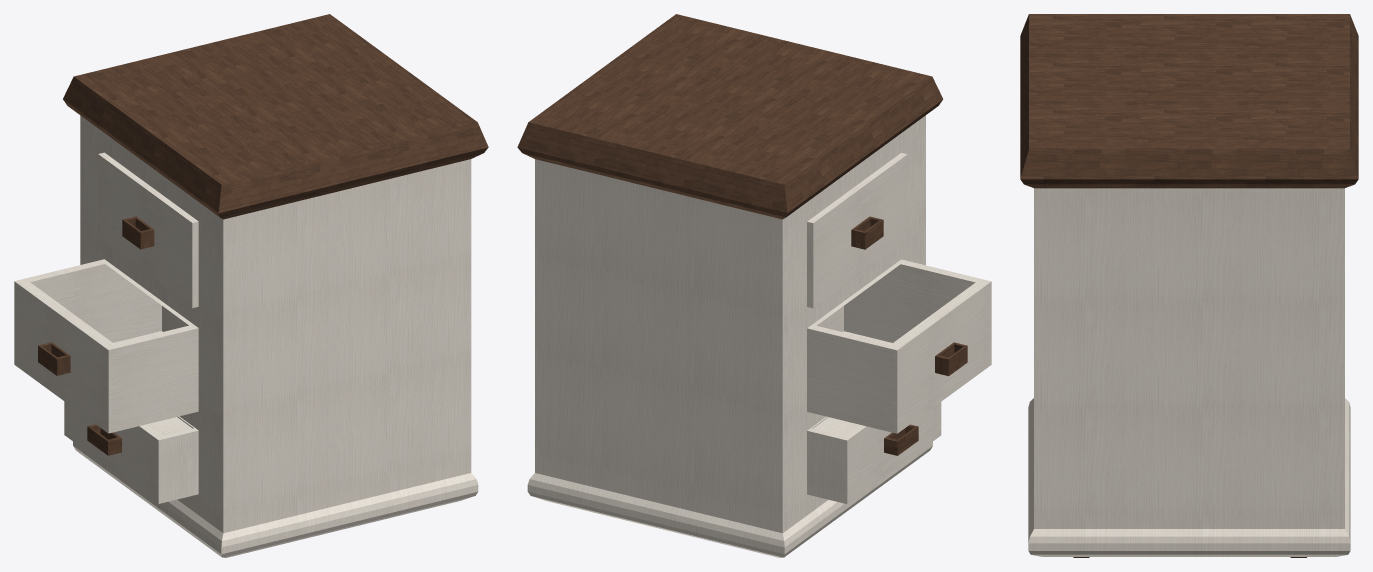
File: mesita_noche.fbx
3 views of the same model, side by side, from view 1: azimuth 30°, elevation 25°; view 2: azimuth 150°, elevation 25°; view 3: azimuth 270°, elevation 25° (orthographic). The views are drawn at different scales.
Visible parts, largest first — view 1: nightstand2:Mesh; view 2: nightstand2:Mesh; view 3: nightstand2:Mesh.
Boxes of the visible parts, x1,y1,x2,y2 form: nightstand2:Mesh: (14,14,488,557); nightstand2:Mesh: (517,14,991,557); nightstand2:Mesh: (1020,14,1358,557).
Size of the model in its own units: 5.28 by 5.46 by 3.93.
Materials: 2 (2 with a texture image).
